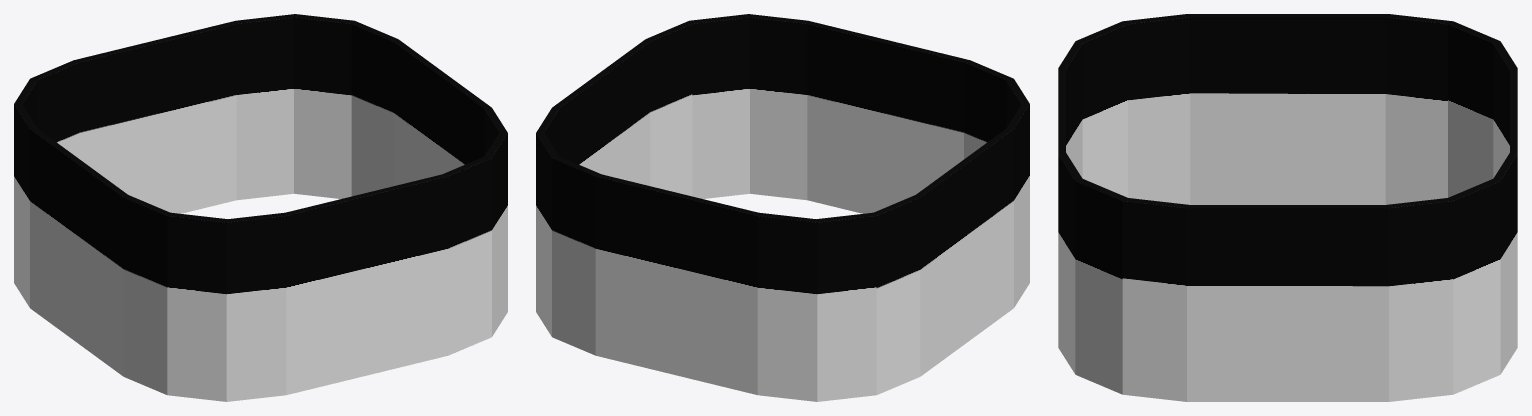
Rendered from ZoneEffect.fbx.
3 views of the same model, side by side, from view 1: azimuth 30°, elevation 25°; view 2: azimuth 150°, elevation 25°; view 3: azimuth 270°, elevation 25° (orthographic). The views are drawn at different scales.
Visible parts, largest first — view 1: ZoneEffect; view 2: ZoneEffect; view 3: ZoneEffect.
Boxes of the visible parts, x1,y1,x2,y2 form: ZoneEffect: [14, 14, 507, 401]; ZoneEffect: [536, 14, 1029, 401]; ZoneEffect: [1058, 14, 1517, 401].
Size of the model in its own units: 2 by 2 by 0.9305.
